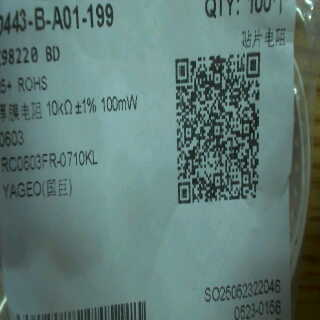10kR: (44, 94, 76, 120)
